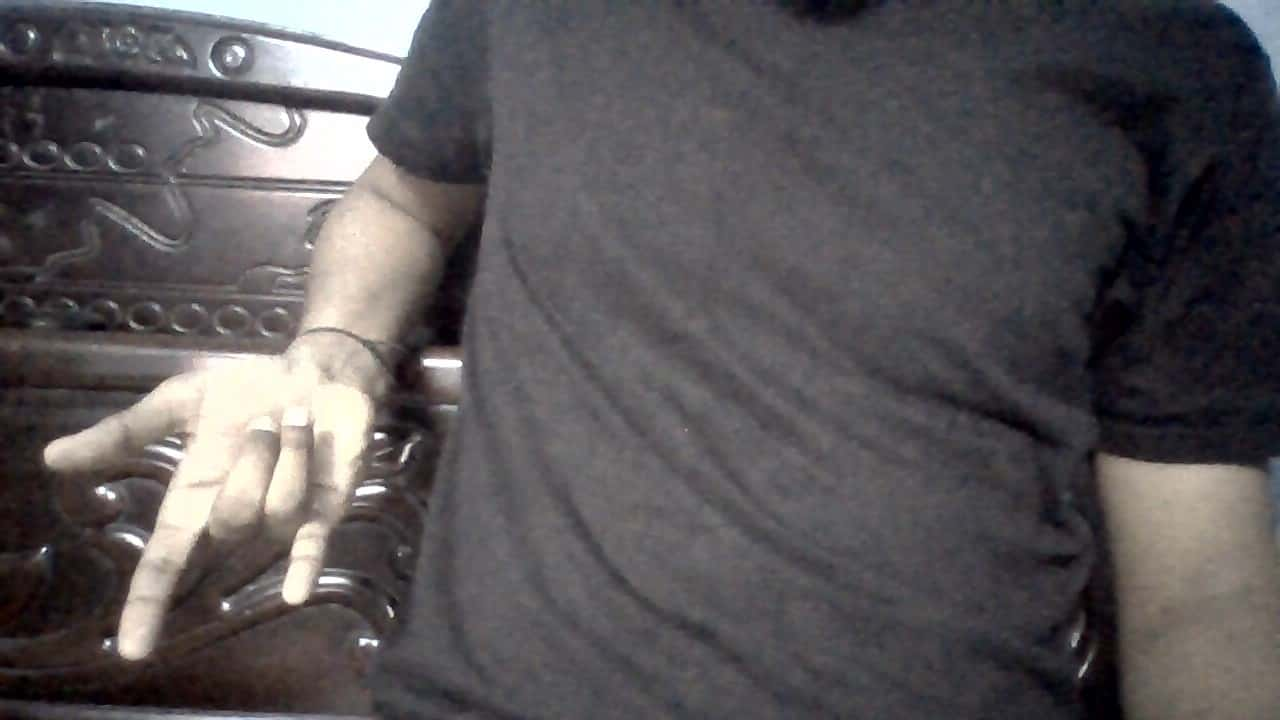hand: (41, 351, 378, 665)
